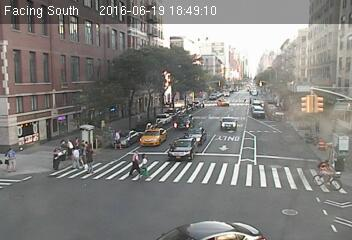neg: (45, 62, 69, 94), (159, 205, 180, 232), (102, 54, 123, 81), (22, 129, 42, 156), (283, 55, 303, 82), (74, 60, 94, 86), (213, 49, 229, 71), (86, 201, 101, 221), (57, 29, 71, 49), (260, 44, 274, 63), (24, 196, 37, 213), (269, 73, 282, 90), (21, 84, 33, 100), (194, 169, 204, 183), (242, 180, 252, 193), (252, 123, 261, 136), (267, 174, 276, 187), (229, 146, 238, 158), (205, 132, 212, 142)
pos: (78, 143, 98, 169), (1, 146, 20, 173), (133, 151, 152, 177), (126, 150, 143, 173), (108, 128, 125, 150), (68, 145, 84, 167), (49, 148, 65, 169), (59, 137, 73, 155), (98, 119, 108, 133)
